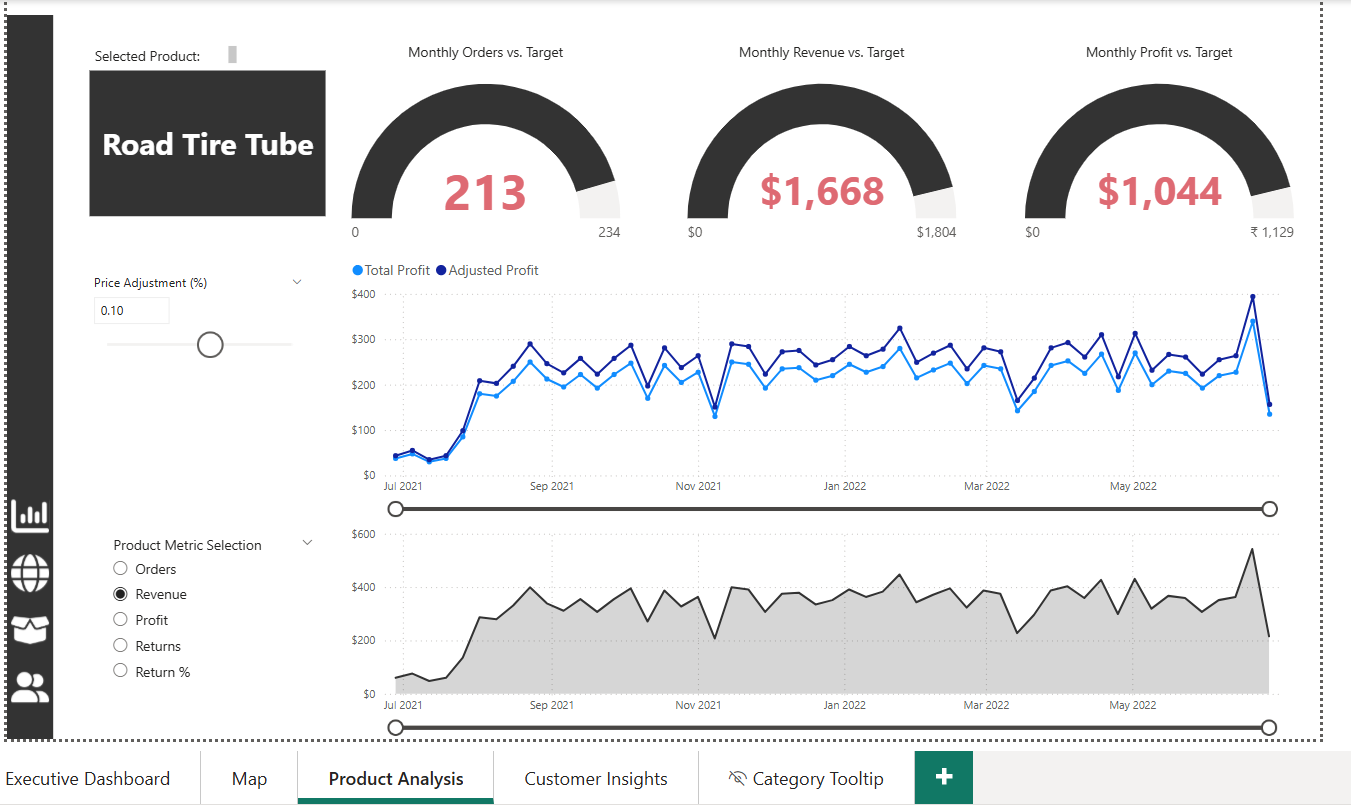

The dashboard page shown, as its layout file describes it:
{"tool":"powerbi","page":{"name":"Product Analysis","canvas":[1280,720],"ordinal":2},"visuals":[{"type":"shape","box":[0,14,45,706],"z":0},{"type":"actionButton","box":[0,476.7,45,53.3],"z":0,"group":"g1"},{"type":"gauge","title":"Monthly Orders vs. Target ","fields":{"Y":["Measure Table.Total Orders"],"MaxValue":["Measure Table.Order Target"]},"box":[329.8,40.5,272,221.8],"z":1000},{"type":"actionButton","box":[0,532.3,45,53.3],"z":1000,"group":"g1"},{"type":"gauge","title":"Monthly Revenue vs. Target ","fields":{"Y":["Measure Table.Total Revenue"],"MaxValue":["Measure Table.Revenue Target"]},"box":[658.1,40.5,272,221.8],"z":2000},{"type":"actionButton","box":[0,587.8,45,53.3],"z":2000,"group":"g1"},{"type":"gauge","title":"Monthly Profit vs. Target ","fields":{"Y":["Measure Table.Total Profit"],"MaxValue":["Measure Table.Profit Target"]},"box":[986.4,40.5,272,221.8],"z":3000},{"type":"actionButton","box":[0,643.4,45,53.3],"z":3000,"group":"g1"},{"type":"lineChart","fields":{"Category":["Calendar Lookup.Date Hierarchy.Start of Year","Calendar Lookup.Date Hierarchy.Start of Month","Calendar Lookup.Date Hierarchy.Start of Week","Calendar Lookup.Date Hierarchy.Date"],"Y":["Measure Table.Total Profit","Measure Table.Adjusted Profit"]},"box":[330,242.9,928.6,264.3],"z":4000},{"type":"areaChart","title":"Return Trending","fields":{"Y":["Measure Table.Total Revenue"],"Category":["Calendar Lookup.Date Hierarchy.Start of Year","Calendar Lookup.Date Hierarchy.Start of Month","Calendar Lookup.Date Hierarchy.Start of Week","Calendar Lookup.Date Hierarchy.Date"]},"box":[330,506,928,214],"z":5000},{"type":"card","fields":{"Values":["Min(Product Lookup.ProductName)"]},"box":[80,68,230,142],"z":6000},{"type":"textbox","box":[80,39.5,148.6,27.1],"z":7000},{"type":"group","id":"g1","title":"Navigation Buttons","box":[0,476.7,45,220],"z":8000},{"type":"slicer","fields":{"Values":["Price Adjustment (%) .Price Adjustment (%) "]},"box":[71.4,261.4,228.6,117.1],"z":9000},{"type":"slicer","fields":{"Values":["Product Metric Selection .Product Metric Selection "]},"box":[90,515.7,220,192.9],"z":10000}]}

Visuals, with their boxes in screenshot pixels (x1, y1, x2, y2):
shape: <box>0,0,49,735</box>
actionButton: <box>0,472,49,530</box>
"Monthly Orders vs. Target " gauge: <box>356,1,649,241</box>
actionButton: <box>0,532,49,590</box>
"Monthly Revenue vs. Target " gauge: <box>710,1,1004,241</box>
actionButton: <box>0,592,49,650</box>
"Monthly Profit vs. Target " gauge: <box>1064,1,1350,241</box>
actionButton: <box>0,652,49,710</box>
lineChart - Calendar Lookup.Date Hierarchy.Start of Year x Calendar Lookup.Date Hierarchy.Start of Month: <box>356,220,1350,505</box>
"Return Trending" areaChart: <box>356,504,1350,735</box>
card - Min(Product Lookup.ProductName): <box>86,31,335,184</box>
textbox: <box>86,0,247,30</box>
"Navigation Buttons" group: <box>0,472,49,710</box>
slicer - Price Adjustment (%) .Price Adjustment (%) : <box>77,240,324,366</box>
slicer - Product Metric Selection .Product Metric Selection : <box>97,514,335,722</box>
